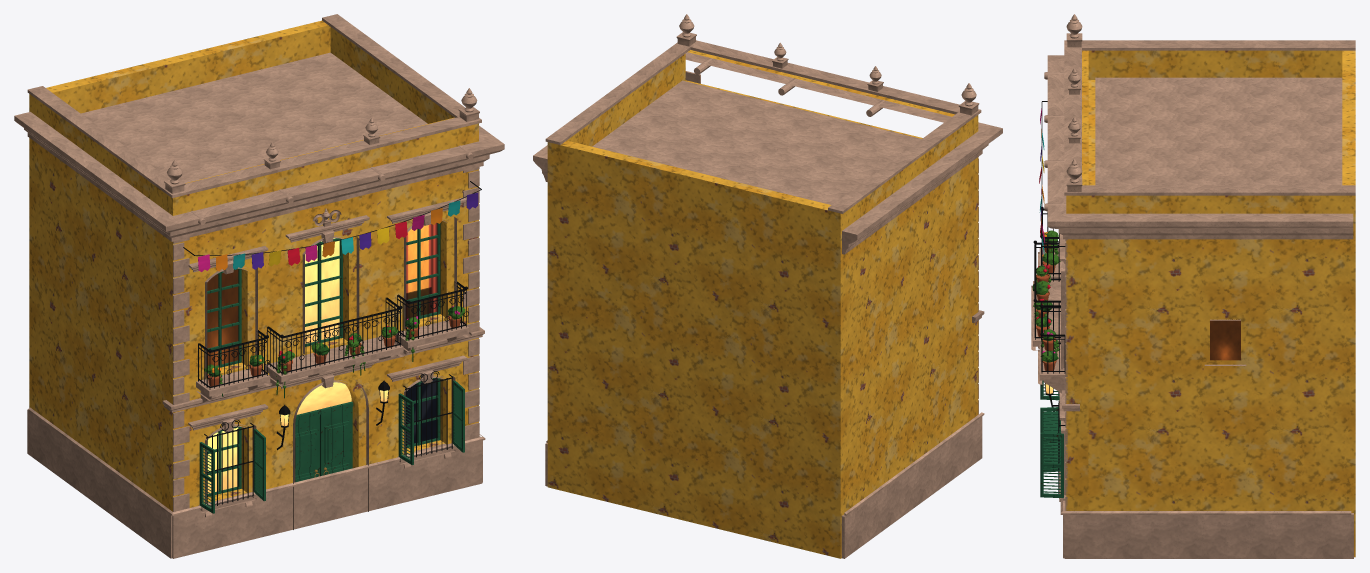
Rendered from w3_bg_casa_c.glb.
3 renders of one model, left to right at view 1: azimuth 30°, elevation 25°; view 2: azimuth 150°, elevation 25°; view 3: azimuth 270°, elevation 25°, orthographic. The views are drawn at different scales.
Parts seen in each view (by area): view 1: w3_bg_casa_c; view 2: w3_bg_casa_c; view 3: w3_bg_casa_c.
Boxes of the visible parts, bbox=[...] form: w3_bg_casa_c: bbox=[14, 14, 504, 558]; w3_bg_casa_c: bbox=[533, 14, 1002, 558]; w3_bg_casa_c: bbox=[1031, 14, 1355, 558].
Size of the model in its own units: 8.85 by 9.82 by 7.29.
Materials: 5 (5 with a texture image).
